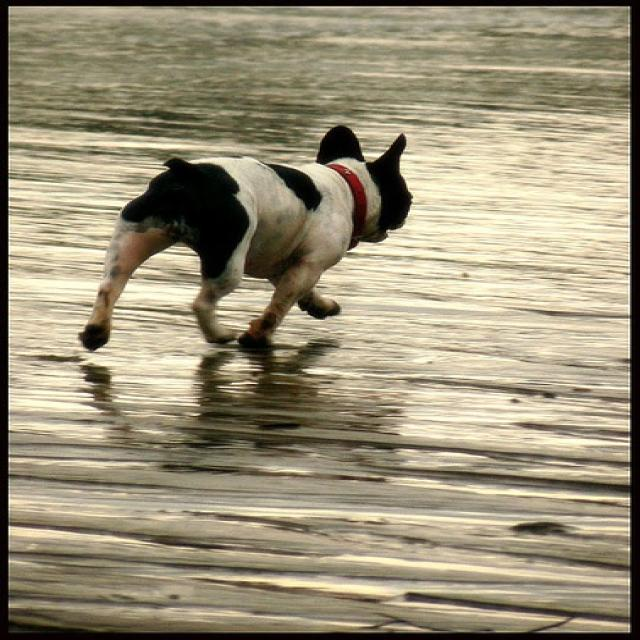dog: (75, 113, 418, 362)
